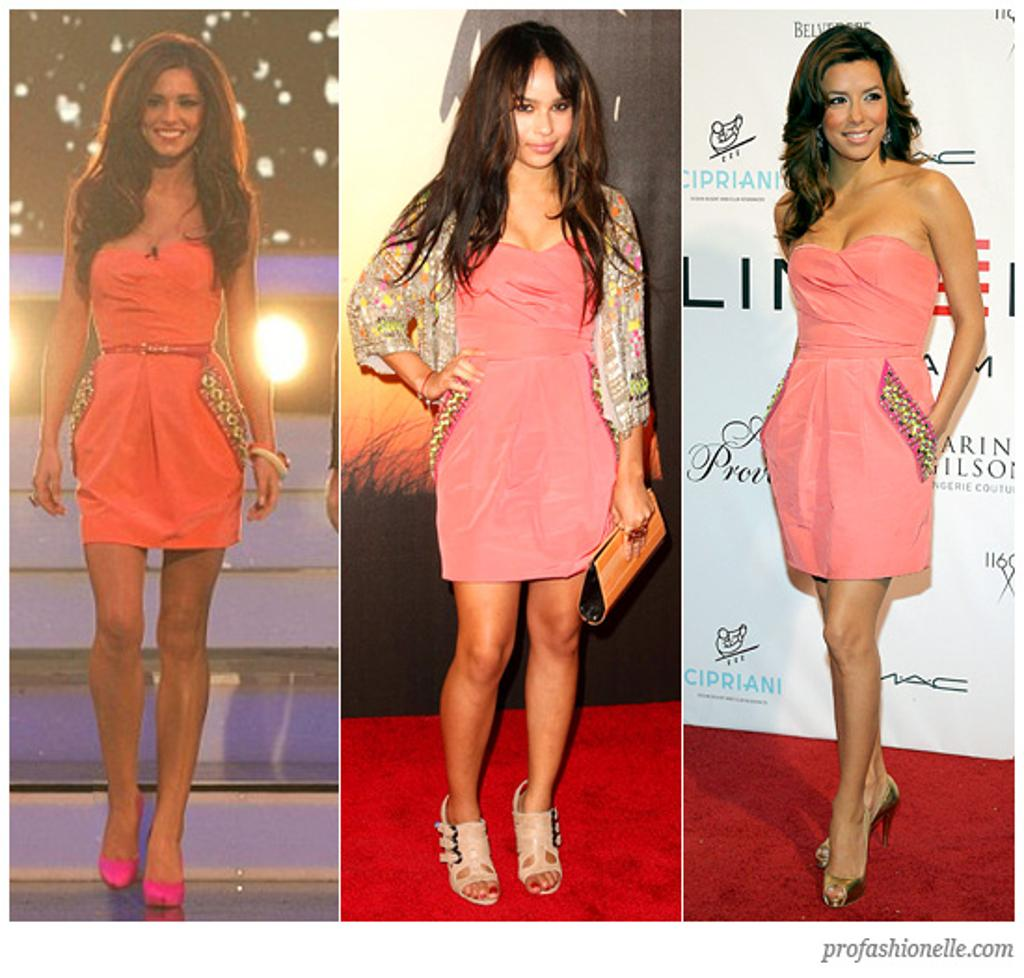face: (502, 56, 576, 168), (820, 60, 890, 160), (136, 66, 206, 154)
